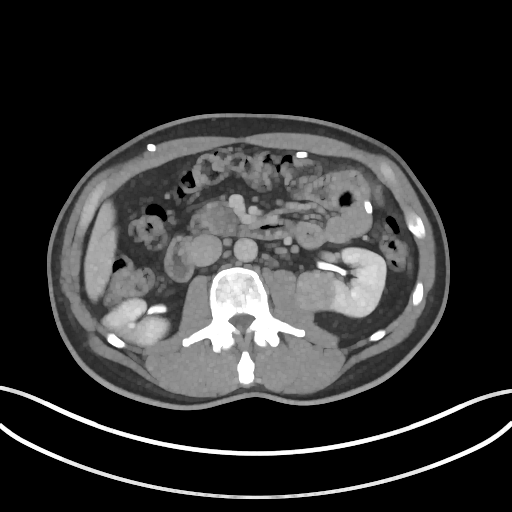Lesion: (294, 268, 339, 318)
